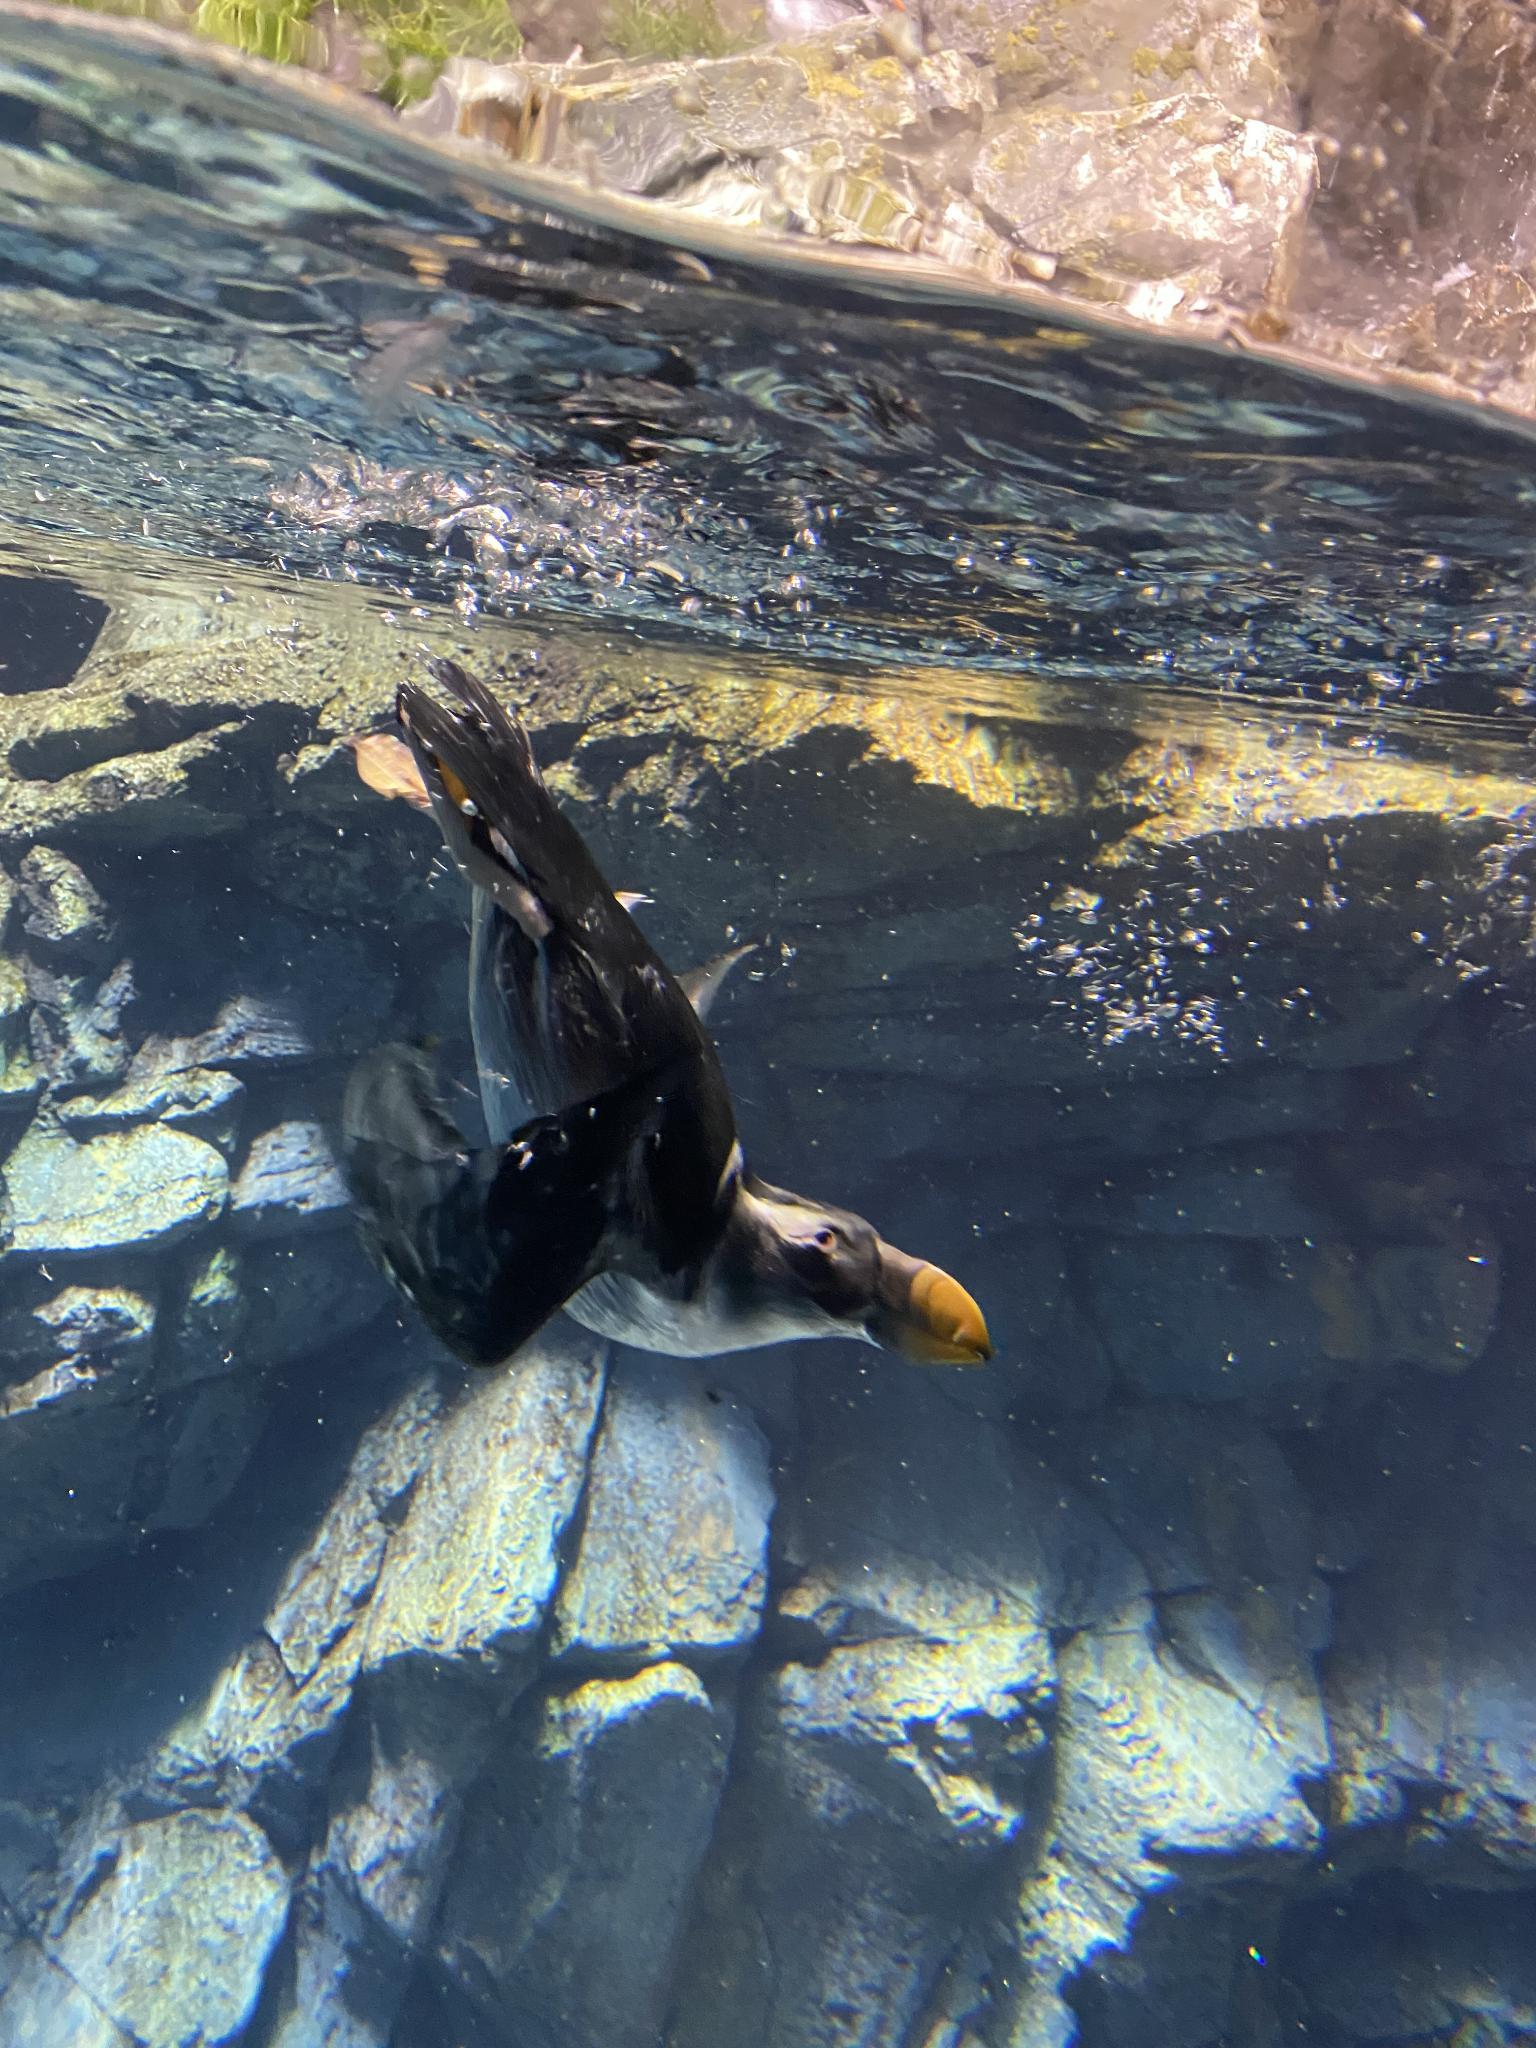puffin: (345, 661, 1012, 1393)
